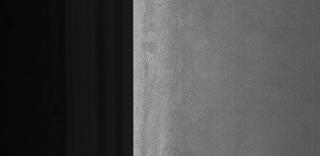silk spot: (164, 36, 196, 144)
